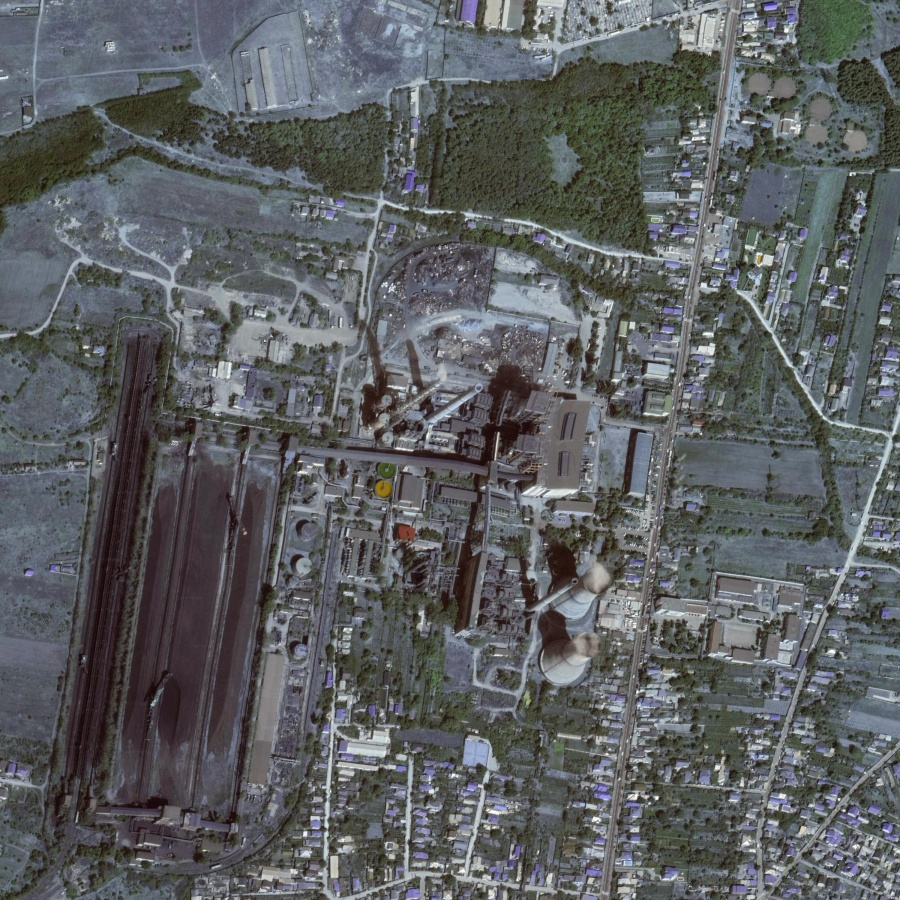PowerPlant: (68, 306, 621, 854)
